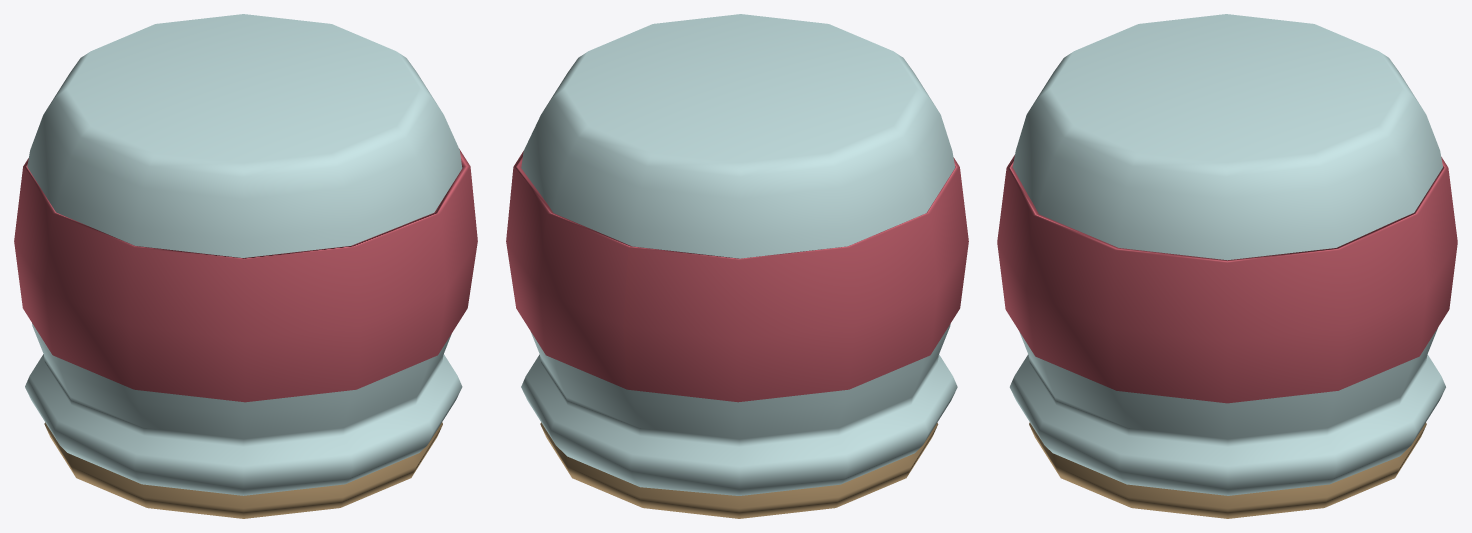
File: Atoll_JarContainer2.fbx
3 renders of one model, left to right at view 1: azimuth 30°, elevation 25°; view 2: azimuth 150°, elevation 25°; view 3: azimuth 270°, elevation 25°, orthographic.
Visible parts, largest first — view 1: Bottle, Label, Cork; view 2: Bottle, Label, Cork; view 3: Bottle, Label, Cork.
Boxes of the visible parts, bbox=[...] form: Bottle: bbox=[25, 14, 462, 495]; Label: bbox=[14, 149, 477, 402]; Cork: bbox=[44, 422, 442, 518]; Bottle: bbox=[521, 14, 957, 495]; Label: bbox=[506, 151, 968, 402]; Cork: bbox=[540, 422, 938, 518]; Bottle: bbox=[1009, 14, 1445, 495]; Label: bbox=[997, 155, 1457, 403]; Cork: bbox=[1029, 422, 1426, 518].
Size of the model in its own units: 1.37 by 1.14 by 1.36.
2 materials, 2 textured.
